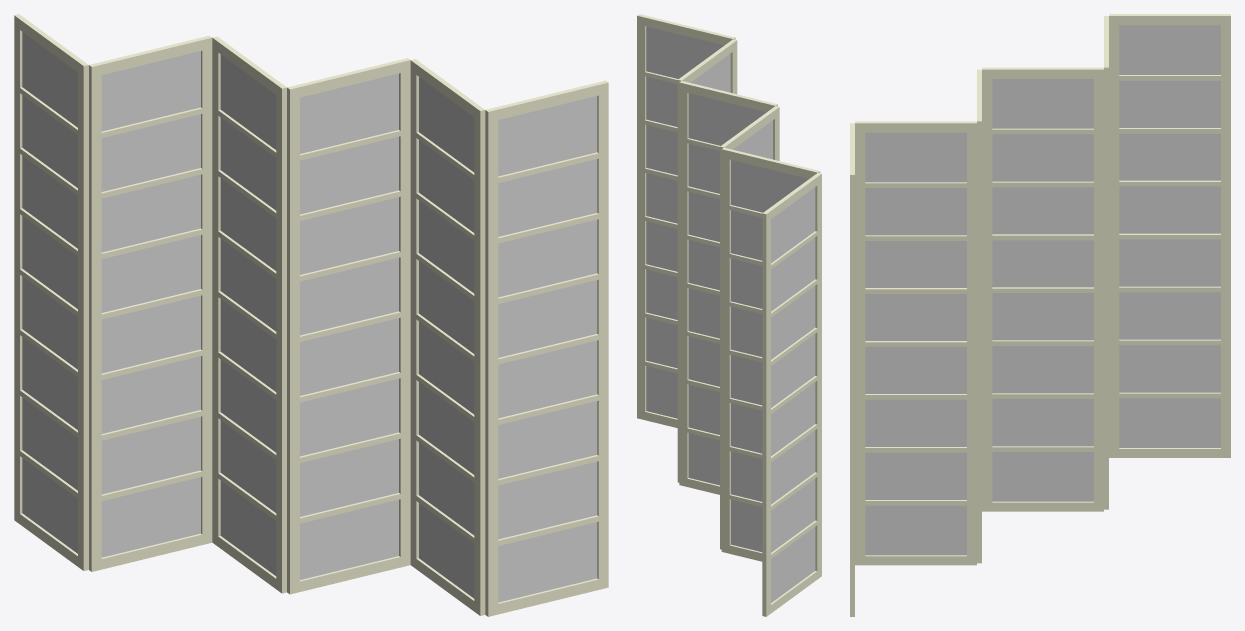
File: Separador.fbx
3 views of the same model, side by side, from view 1: azimuth 30°, elevation 25°; view 2: azimuth 150°, elevation 25°; view 3: azimuth 270°, elevation 25° (orthographic). The views are drawn at different scales.
Parts seen in each view (by area): view 1: Group_005, Group_001, Group_003, Group_004, Group_002, Group_006, Group#160_004, Group#160_006, Group#160_003, Group#160_002, Group#160_005, Group#160_001; view 2: Group_006, Group_003, Group_001, Group_005, Group#160_001, Group#160_003, Group#160_006, Group#160_004, Group#160_002, Group#160_005, Group_002, Group_004; view 3: Group_006, Group_004, Group_002, Group#160_001, Group#160_005, Group#160_002, Group#160_006, Group#160_004, Group#160_003.
Boxes of the visible parts, x1=… form: Group_005: x1=101, y1=51, x2=200, y2=557; Group_001: x1=498, y1=96, x2=597, y2=602; Group_003: x1=300, y1=73, x2=398, y2=579; Group_004: x1=220, y1=54, x2=276, y2=575; Group_002: x1=419, y1=77, x2=474, y2=598; Group_006: x1=22, y1=32, x2=77, y2=553; Group#160_004: x1=485, y1=80, x2=608, y2=616; Group#160_006: x1=287, y1=58, x2=410, y2=594; Group#160_003: x1=89, y1=35, x2=212, y2=571; Group#160_002: x1=410, y1=59, x2=485, y2=615; Group#160_005: x1=212, y1=36, x2=286, y2=593; Group#160_001: x1=14, y1=14, x2=88, y2=570; Group_006: x1=771, y1=187, x2=815, y2=602; Group_003: x1=688, y1=93, x2=766, y2=485; Group_001: x1=646, y1=26, x2=724, y2=418; Group_005: x1=731, y1=160, x2=808, y2=551; Group#160_001: x1=762, y1=173, x2=821, y2=616; Group#160_003: x1=721, y1=147, x2=820, y2=561; Group#160_006: x1=679, y1=81, x2=777, y2=494; Group#160_004: x1=637, y1=14, x2=735, y2=427; Group#160_002: x1=677, y1=39, x2=737, y2=482; Group#160_005: x1=720, y1=106, x2=779, y2=549; Group_002: x1=690, y1=53, x2=730, y2=92; Group_004: x1=733, y1=120, x2=772, y2=159; Group_006: x1=1119, y1=25, x2=1220, y2=447; Group_004: x1=992, y1=79, x2=1093, y2=501; Group_002: x1=865, y1=132, x2=966, y2=555; Group#160_001: x1=1109, y1=14, x2=1230, y2=457; Group#160_005: x1=982, y1=67, x2=1103, y2=511; Group#160_002: x1=855, y1=121, x2=976, y2=565; Group#160_006: x1=977, y1=69, x2=981, y2=563; Group#160_004: x1=850, y1=123, x2=854, y2=616; Group#160_003: x1=1104, y1=16, x2=1108, y2=509.
Size of the model in its own units: 1905 by 2438 by 1905.
